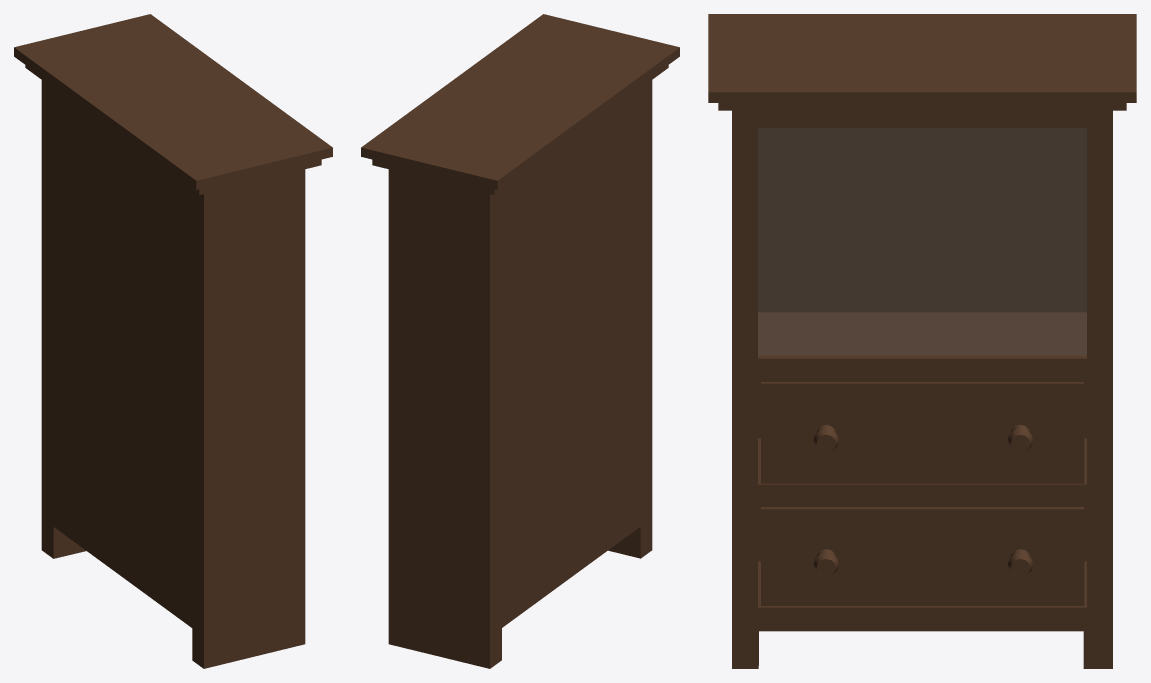
Rendered from Bookcase4.fbx.
3 renders of one model, left to right at view 1: azimuth 30°, elevation 25°; view 2: azimuth 150°, elevation 25°; view 3: azimuth 270°, elevation 25°, orthographic. The views are drawn at different scales.
Visible parts, largest first — view 1: Bookcase3; view 2: Bookcase3; view 3: Bookcase3.
Boxes of the visible parts, x1=… form: Bookcase3: x1=14, y1=14, x2=332, y2=668; Bookcase3: x1=361, y1=14, x2=679, y2=668; Bookcase3: x1=708, y1=14, x2=1136, y2=668.
Size of the model in its own units: 1.78 by 6.24 by 4.13.
